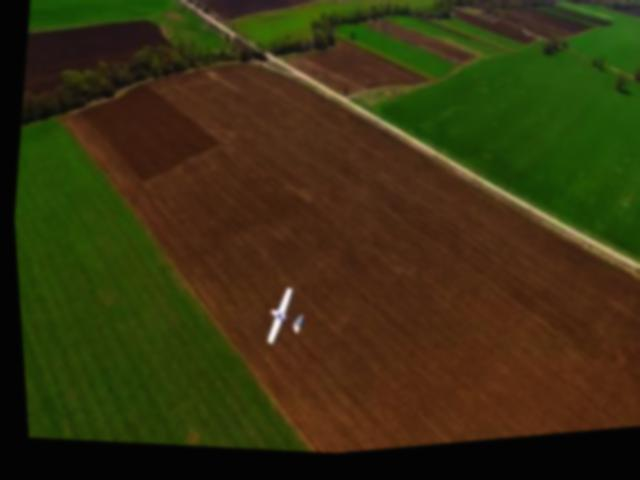uav: (250, 280, 313, 359)
